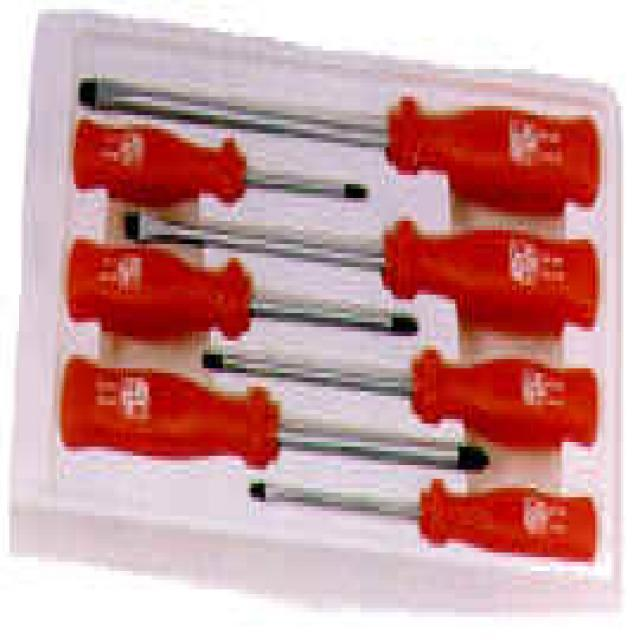screwdriver: (70, 57, 618, 210), (120, 190, 610, 339), (51, 352, 497, 503), (196, 315, 608, 464), (63, 228, 420, 366), (242, 448, 606, 574), (74, 116, 380, 232)
